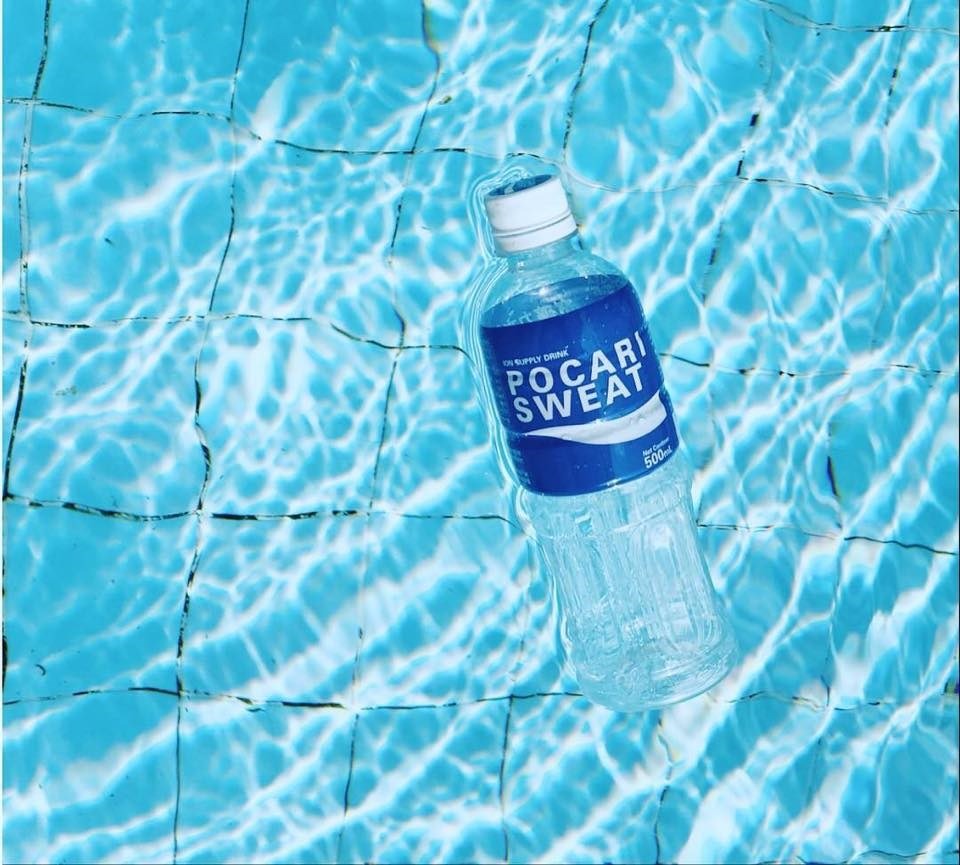POCARI SWEAT: (448, 167, 758, 718)
